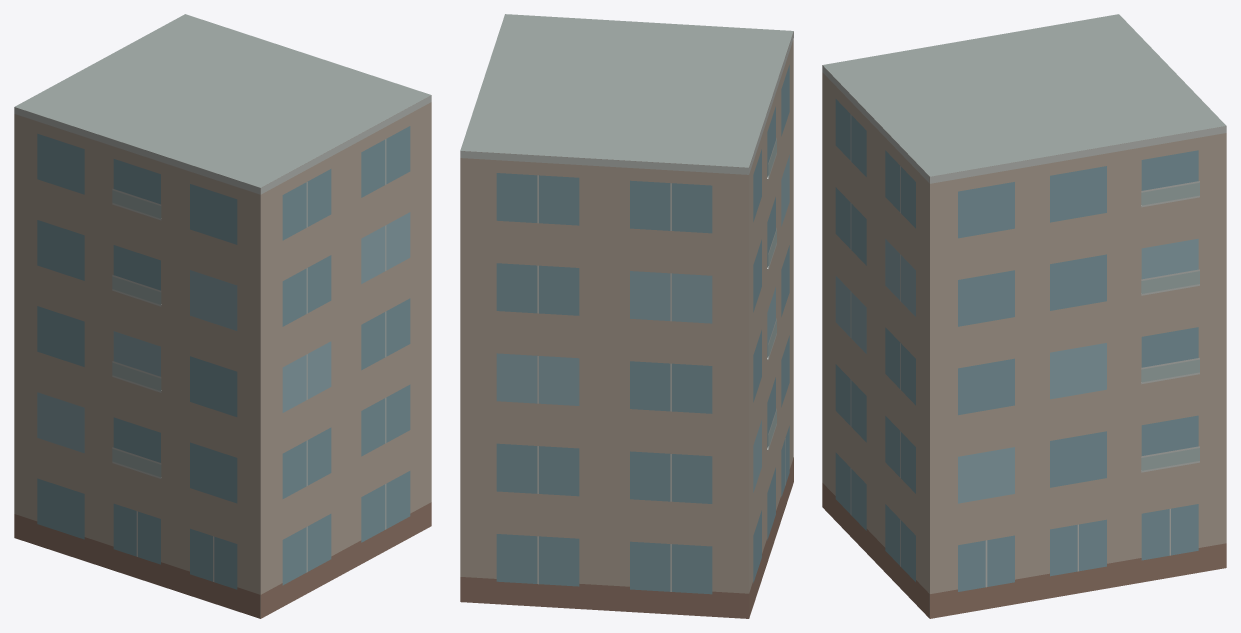
The model's file is residential-ca40e59d-d12e-4b9d-9e96-bdb0daefeda9.glb.
3 renders of one model, left to right at view 1: azimuth 30°, elevation 25°; view 2: azimuth 150°, elevation 25°; view 3: azimuth 270°, elevation 25°, orthographic. The views are drawn at different scales.
Visible parts, largest first — view 1: residential-ca40e59d-d12e-4b9d-9e96-bdb0daefeda9.tmp; view 2: residential-ca40e59d-d12e-4b9d-9e96-bdb0daefeda9.tmp; view 3: residential-ca40e59d-d12e-4b9d-9e96-bdb0daefeda9.tmp.
Part boxes in pixels (left/top/right/bottom): residential-ca40e59d-d12e-4b9d-9e96-bdb0daefeda9.tmp: left=14, top=14, right=431, bottom=618; residential-ca40e59d-d12e-4b9d-9e96-bdb0daefeda9.tmp: left=460, top=14, right=793, bottom=618; residential-ca40e59d-d12e-4b9d-9e96-bdb0daefeda9.tmp: left=822, top=14, right=1226, bottom=618.
Bounding box in the file's own units: 12.05 × 15.25 × 12.65.
